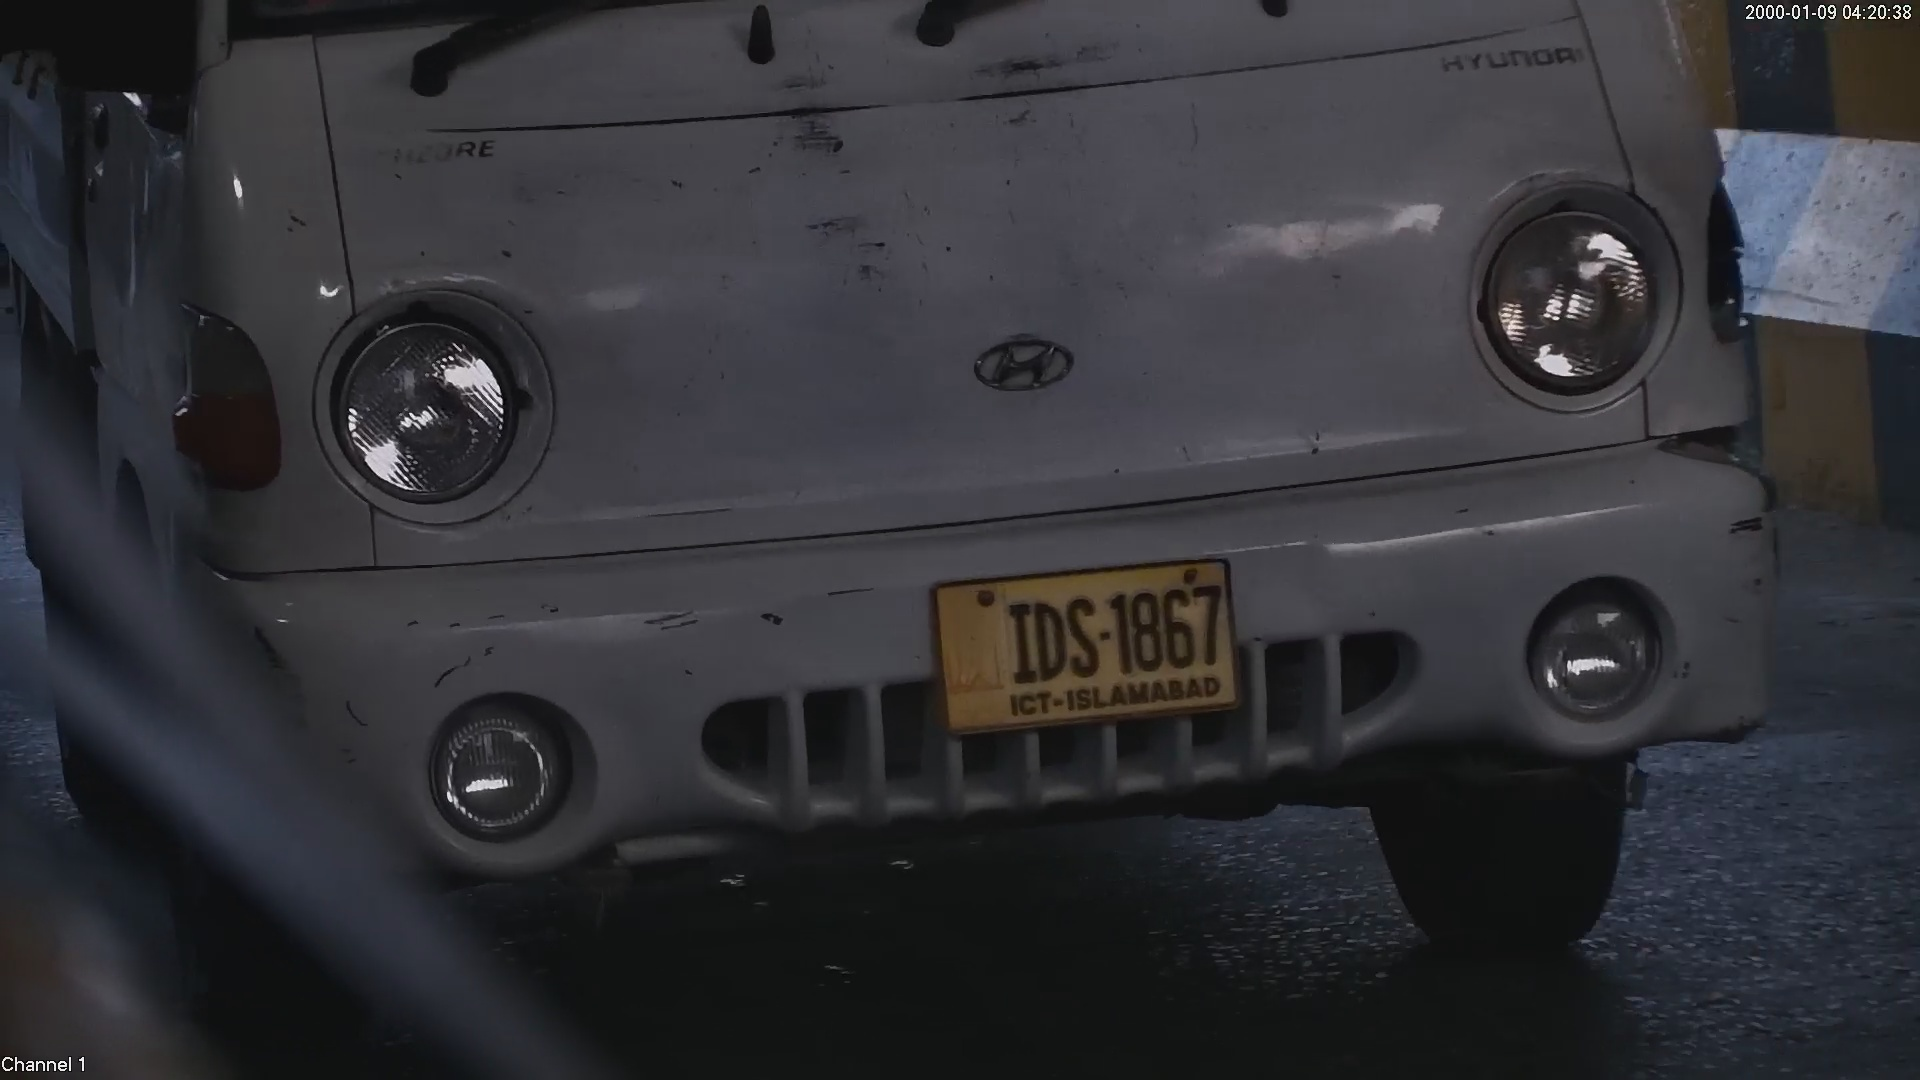Number_Plate: (913, 536, 1267, 742)
Undefined: (293, 268, 565, 523), (1460, 168, 1684, 407), (1487, 570, 1702, 738), (417, 686, 582, 844), (1415, 23, 1613, 99), (941, 325, 1097, 412)
